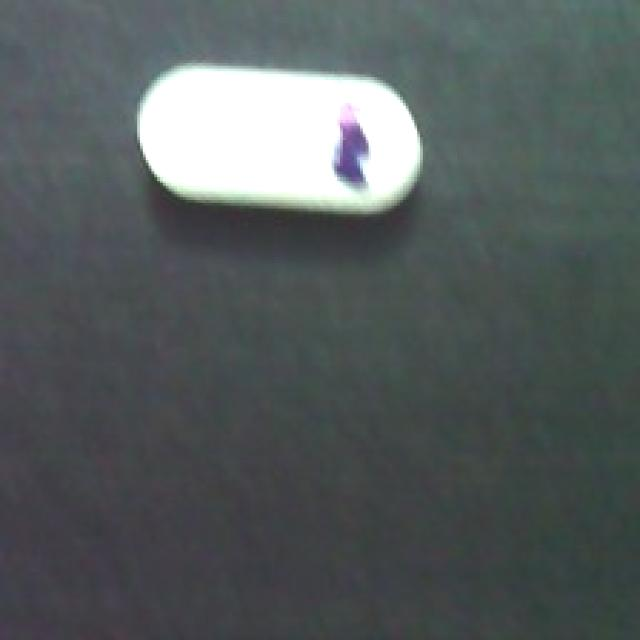defected: (131, 60, 437, 223)
